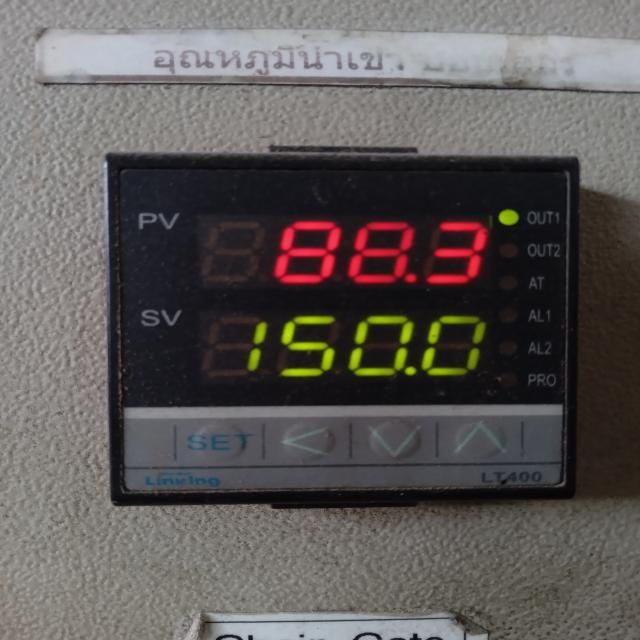display: (196, 212, 495, 288), (201, 312, 496, 382)
frame: (243, 314, 489, 378), (263, 218, 489, 285), (504, 468, 548, 486), (541, 339, 556, 356), (544, 307, 556, 325), (551, 243, 564, 259), (554, 211, 562, 226)
gauge: (105, 144, 580, 512)
